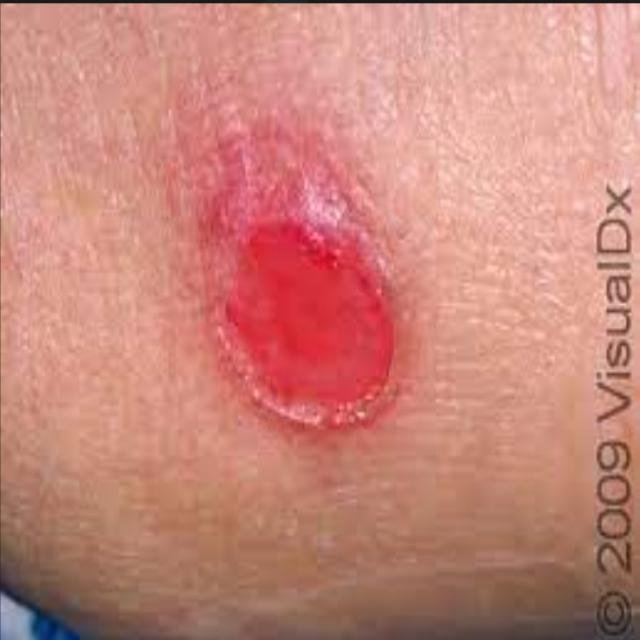stage-2: (231, 221, 394, 404)
